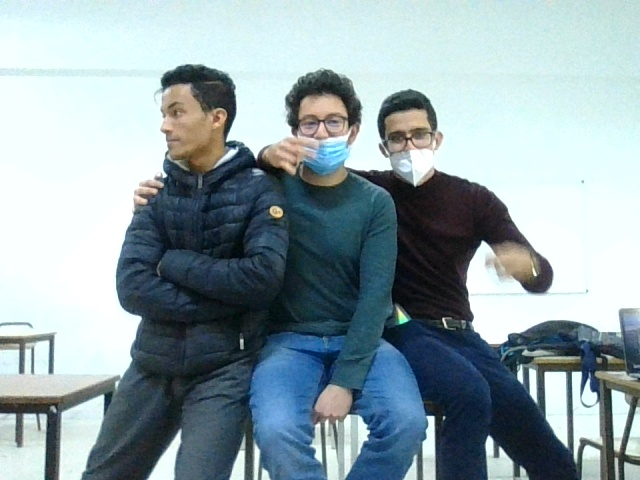mask_weared_incorrect: (280, 76, 364, 181), (378, 85, 449, 197)
without_mask: (150, 69, 239, 174)
